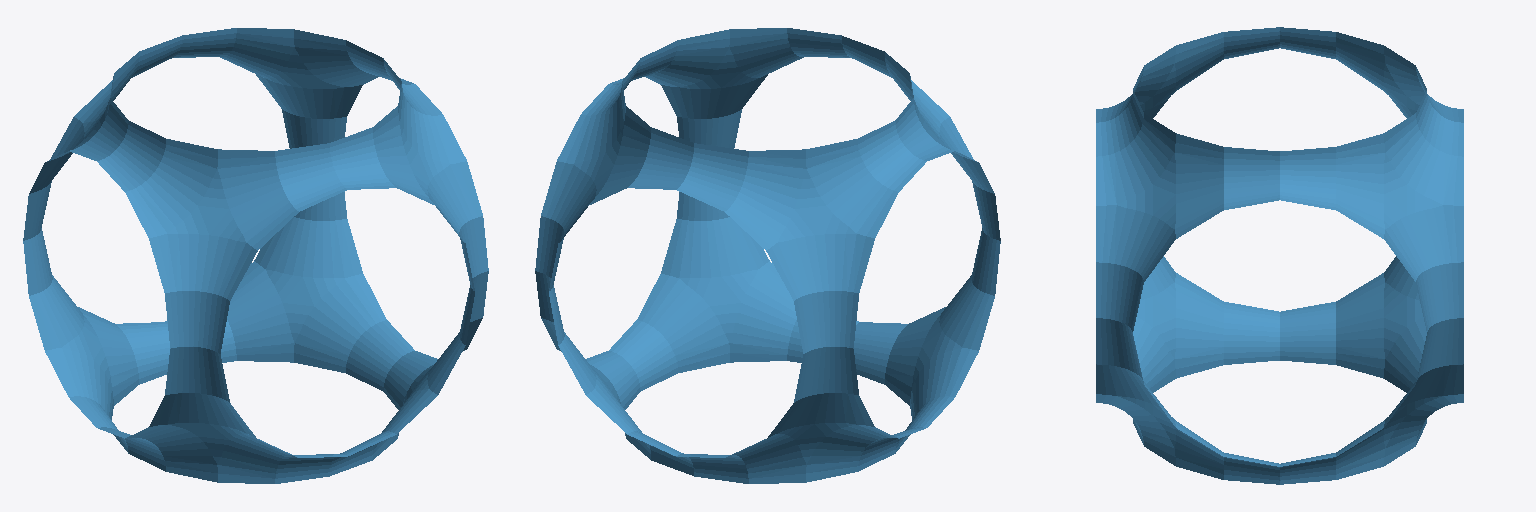
Rendered from pipe-intersection-3.obj.
3 renders of one model, left to right at view 1: azimuth 30°, elevation 25°; view 2: azimuth 150°, elevation 25°; view 3: azimuth 270°, elevation 25°, orthographic.
Visible parts, largest first — view 1: Torus_Torus.001_Torus_Torus.008; view 2: Torus_Torus.001_Torus_Torus.008; view 3: Torus_Torus.001_Torus_Torus.008.
Boxes of the visible parts, box(x1,y1,x2,y2) form: Torus_Torus.001_Torus_Torus.008: box(23, 28, 488, 483); Torus_Torus.001_Torus_Torus.008: box(535, 28, 1000, 483); Torus_Torus.001_Torus_Torus.008: box(1096, 27, 1463, 484).
Bounding box in the file's own units: 1 × 1 × 1.